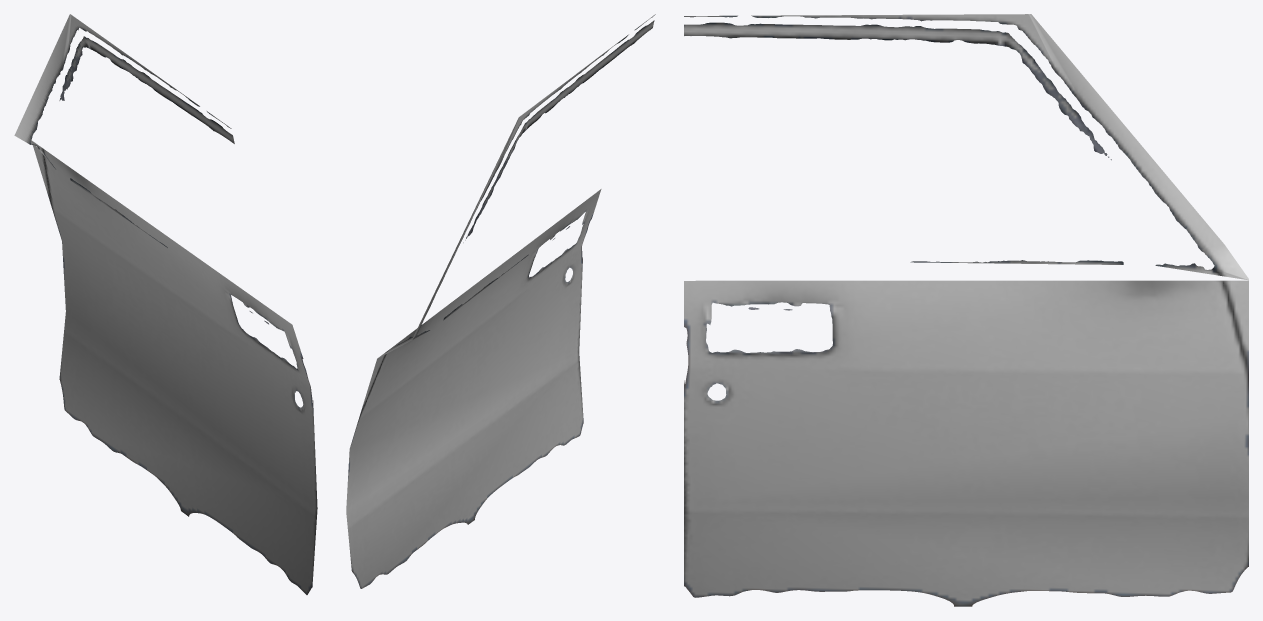
File: SM_AbandonedCar_Door_FR.fbx
The picture shows the model from 3 angles, left to right: view 1: azimuth 30°, elevation 25°; view 2: azimuth 150°, elevation 25°; view 3: azimuth 270°, elevation 25°; orthographic projection. The views are drawn at different scales.
Visible parts, largest first — view 1: SM_AbandonedCar_Door_FR; view 2: SM_AbandonedCar_Door_FR; view 3: SM_AbandonedCar_Door_FR.
Part boxes in pixels (x1,y1,x2,y2): SM_AbandonedCar_Door_FR: (14, 14, 317, 594); SM_AbandonedCar_Door_FR: (346, 14, 655, 588); SM_AbandonedCar_Door_FR: (684, 14, 1248, 606).
Size of the model in its own units: 22.43 by 99.5 by 93.
Materials: 1 (1 with a texture image).
